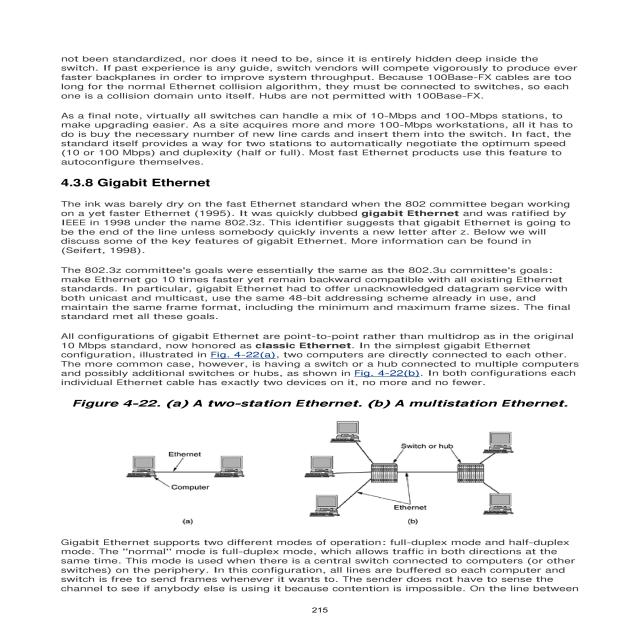diagram: (59, 394, 584, 533)
